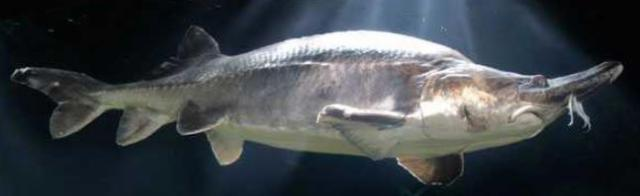Mulut: (508, 96, 554, 146)
Sirip Anal: (114, 114, 166, 157)
Sirip Dada: (311, 97, 473, 196)
Sirip Ekor: (9, 57, 112, 140)
Sirip Perut: (170, 99, 276, 139)
Sirip Punggung: (146, 16, 230, 70)
